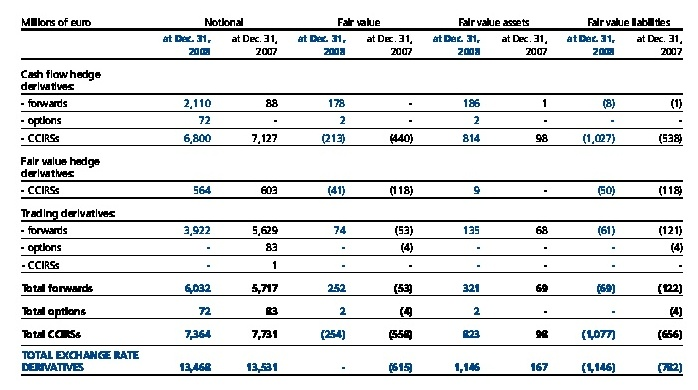table: (0, 0, 698, 390)
